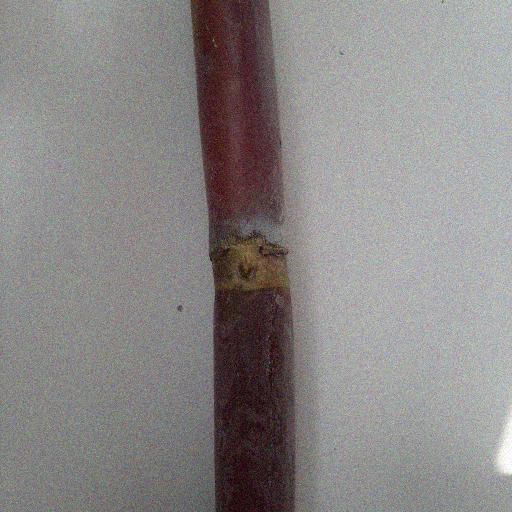Bud: (236, 255, 260, 281)
